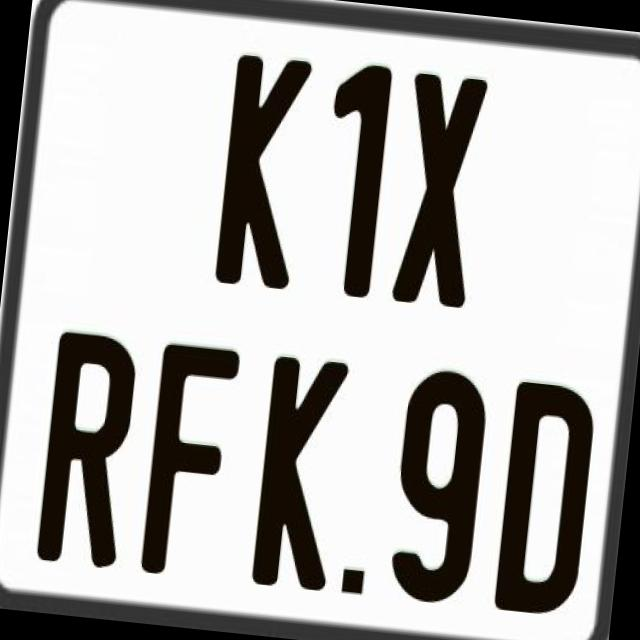1: (310, 58, 395, 294)
9: (384, 364, 495, 612)
D: (491, 379, 598, 622)
F: (136, 338, 244, 580)
K: (214, 49, 320, 290), (249, 356, 355, 596)
R: (34, 327, 141, 572)
X: (388, 68, 488, 312)
